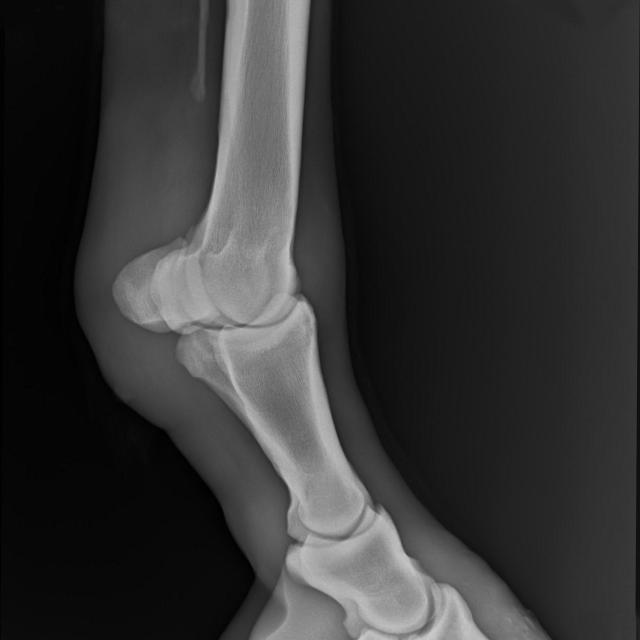joint-ht8A: (99, 171, 368, 416)
